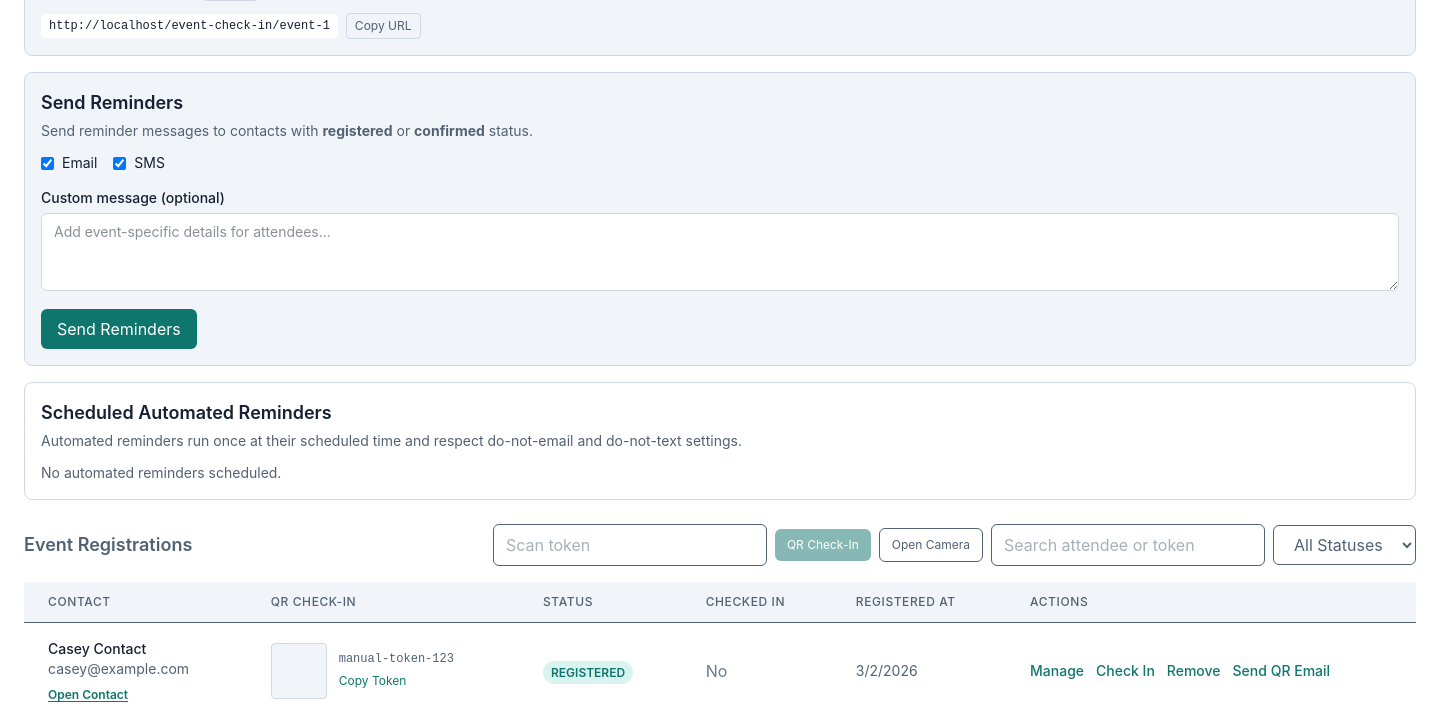
it: EventRegistrationsPanel › opens the manage flow, loads cases, and saves registration updates
(page scrolled)
Click the button "Manage".
click(1057, 671)  # box 1030,661 -> 1084,681
(page scrolled)
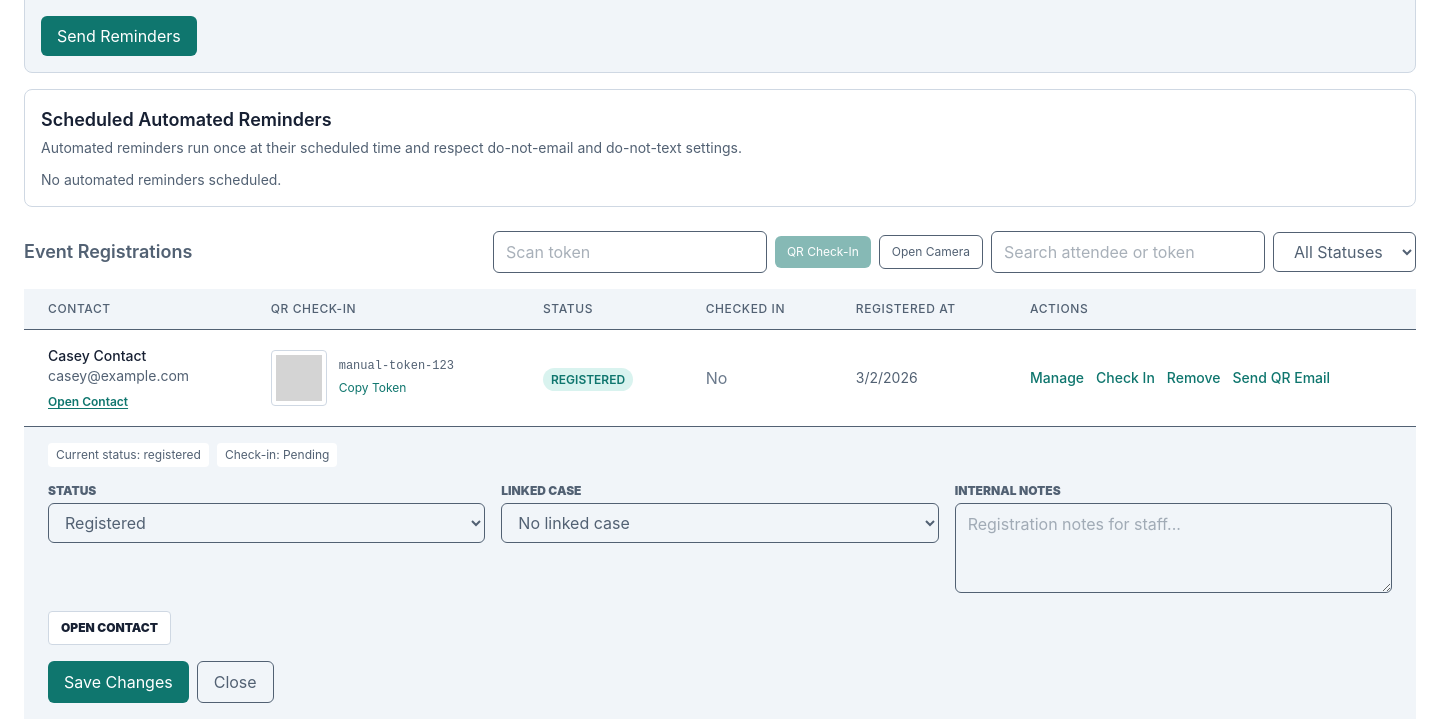
Select "Confirmed" in the dropdown labelled "Status" at (267, 523), box 48,503 -> 485,543
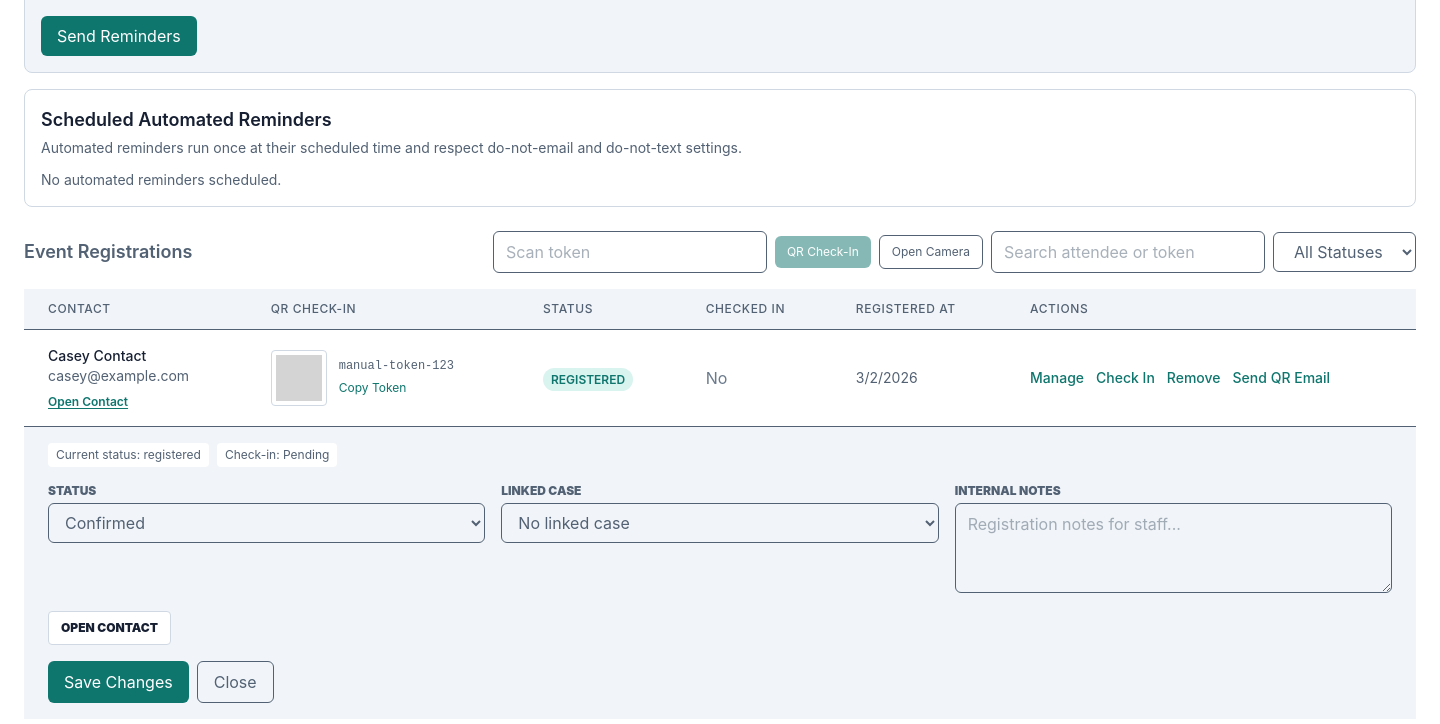
Select "CASE-001 - Housing support" in the dropdown labelled "Linked Case" at (720, 523), box 501,503 -> 939,543
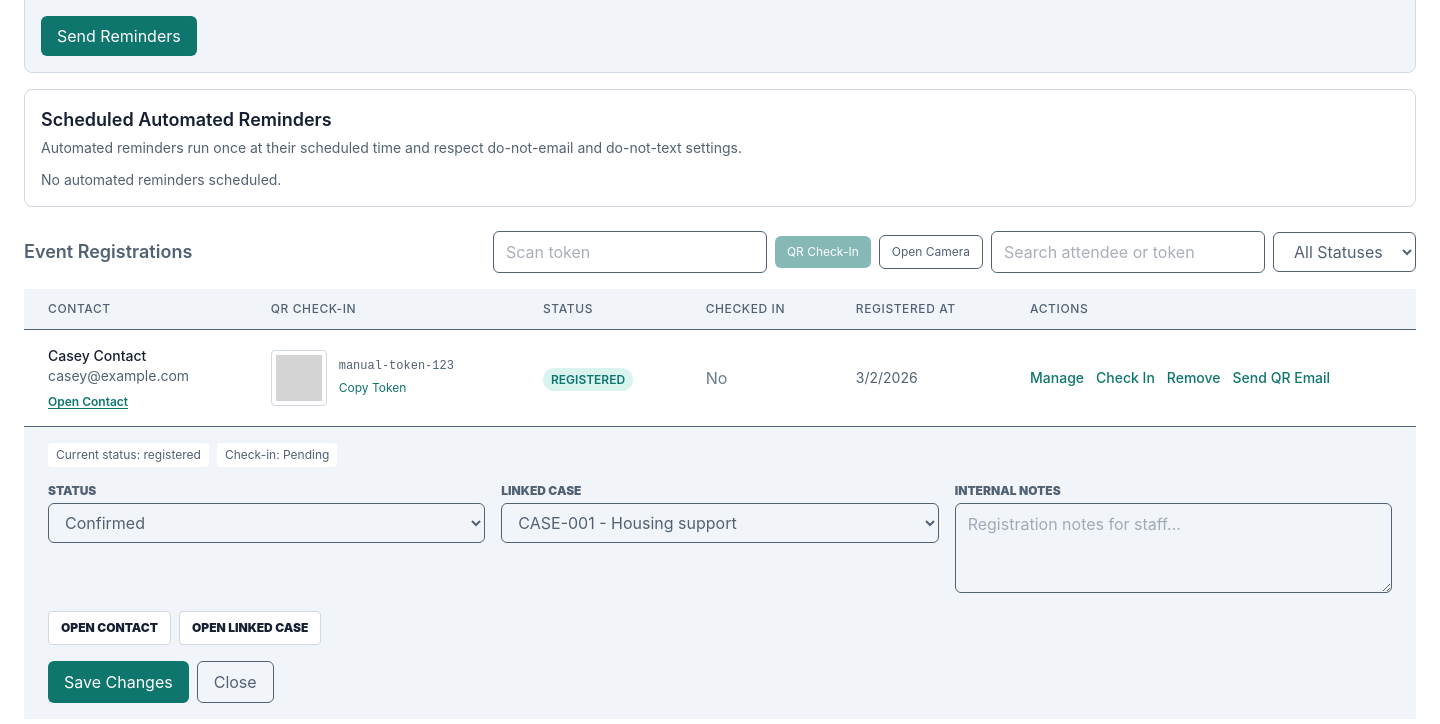
Type "Arriving with spouse" into the text box labelled "Internal Notes".
click(1173, 548); type("Arriving with spouse")  # box 955,503 -> 1392,593
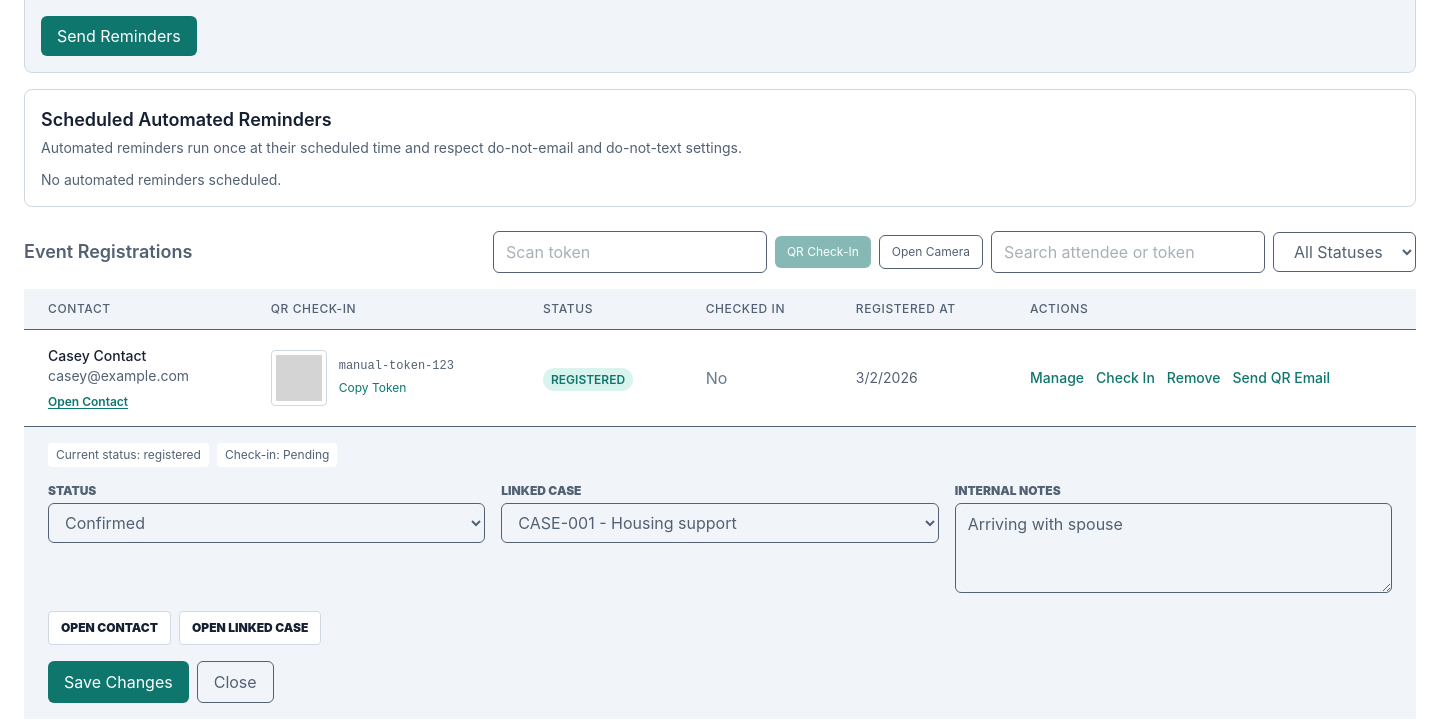
Click the button "Save Changes".
click(118, 682)  # box 48,661 -> 189,703
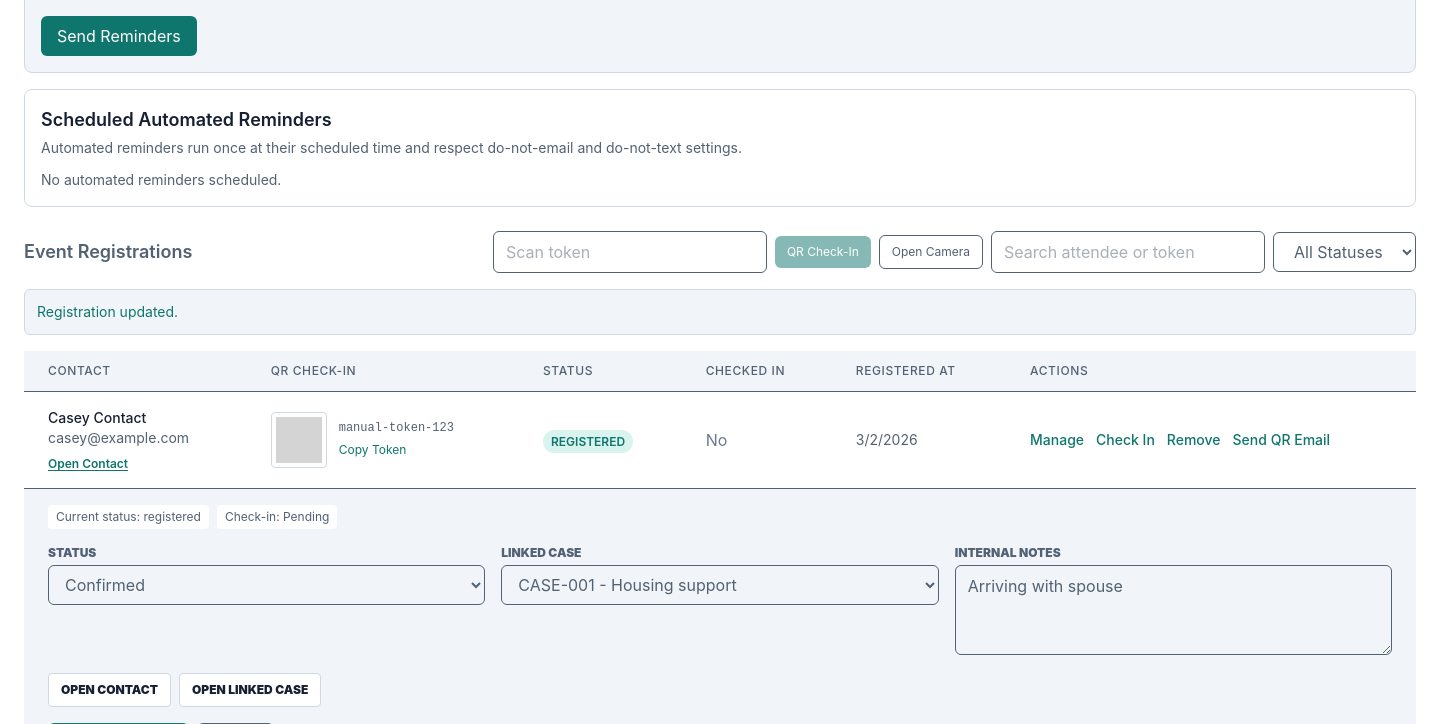
Expected: the text "Registration updated." is shown, 37,303 -> 178,320
